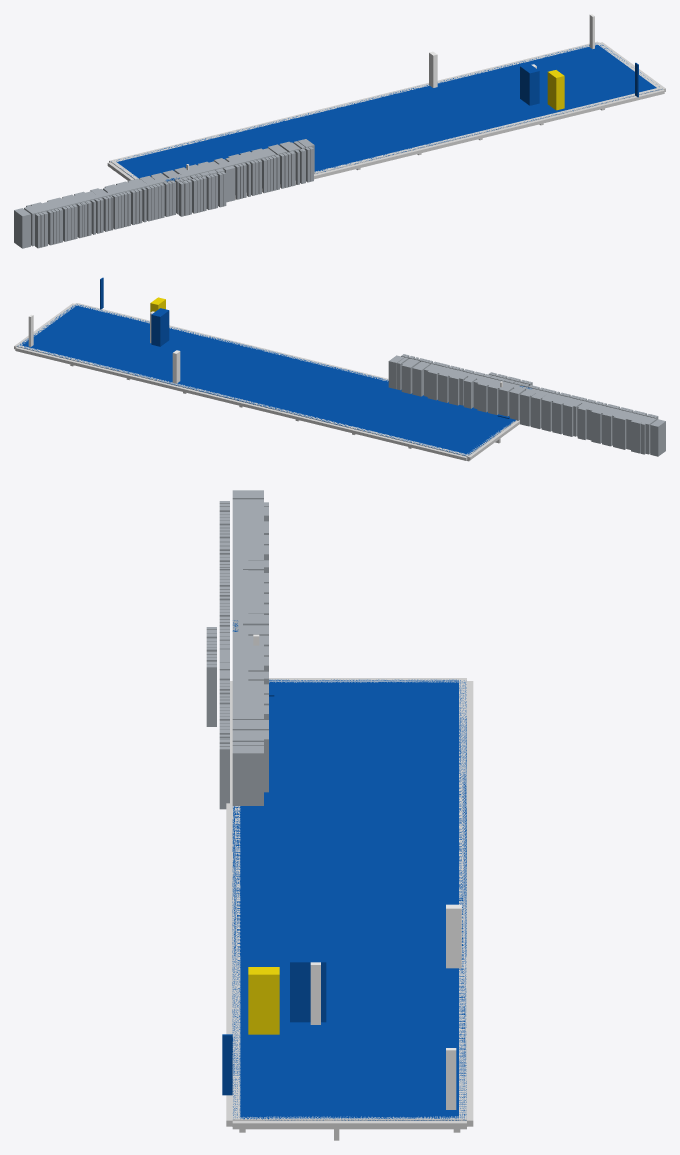
File: hộp đèn bạt in UV 1 mặt 400 x 90.obj
3 views of the same model, one above another, from view 1: azimuth 30°, elevation 25°; view 2: azimuth 150°, elevation 25°; view 3: azimuth 270°, elevation 25° (orthographic). The views are drawn at different scales.
Visible parts, largest first — view 1: xanhbien, khoi, nhom, vangtuoi, trang; view 2: xanhbien, khoi, nhom, trang; view 3: xanhbien, khoi, nhom, trang, vangtuoi.
Boxes of the visible parts, x1=… form: xanhbien: x1=111, y1=43, x2=661, y2=181; khoi: x1=14, y1=139, x2=314, y2=248; nhom: x1=107, y1=41, x2=665, y2=199; vangtuoi: x1=547, y1=70, x2=564, y2=110; trang: x1=186, y1=14, x2=594, y2=170; xanhbien: x1=17, y1=277, x2=531, y2=455; khoi: x1=388, y1=354, x2=665, y2=456; nhom: x1=14, y1=303, x2=519, y2=461; trang: x1=28, y1=311, x2=502, y2=387; xanhbien: x1=222, y1=620, x2=466, y2=1120; khoi: x1=206, y1=490, x2=268, y2=809; nhom: x1=226, y1=678, x2=473, y2=1140; trang: x1=253, y1=634, x2=461, y2=1109; vangtuoi: x1=248, y1=967, x2=279, y2=1034.
Size of the model in its own units: 5.27 by 0.354 by 1.03.
